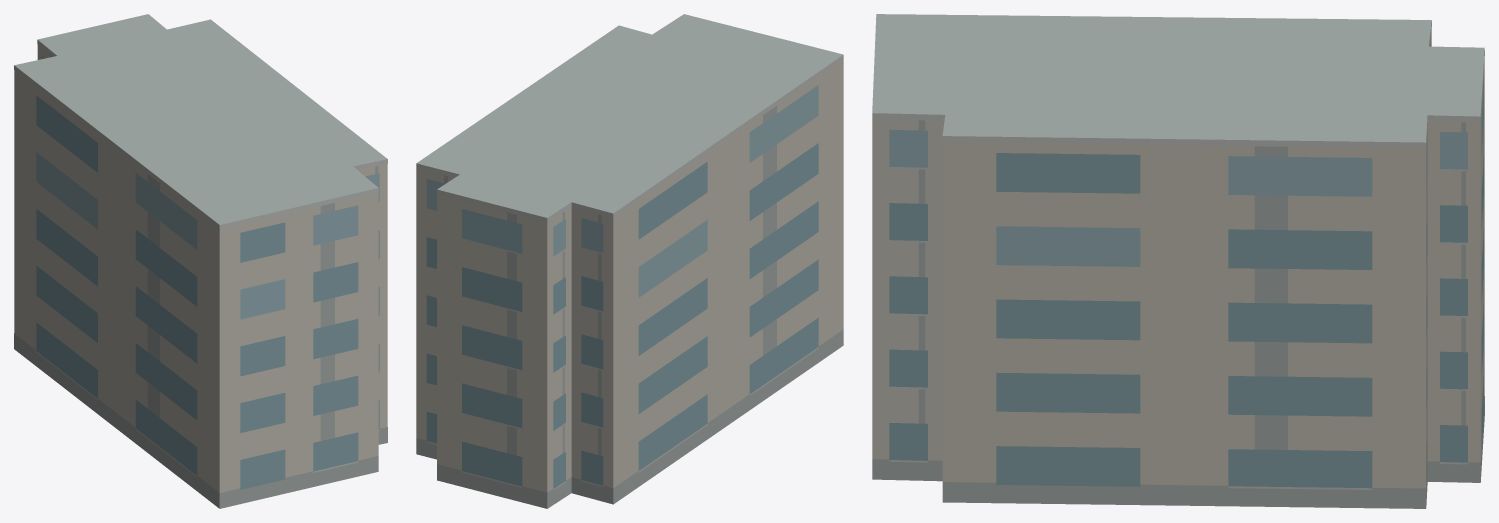
Rendered from survey-upis-32802506.glb.
The picture shows the model from 3 angles, left to right: view 1: azimuth 30°, elevation 25°; view 2: azimuth 150°, elevation 25°; view 3: azimuth 270°, elevation 25°; orthographic projection. The views are drawn at different scales.
Parts seen in each view (by area): view 1: survey-upis-32802506.tmp; view 2: survey-upis-32802506.tmp; view 3: survey-upis-32802506.tmp.
Part boxes in pixels (bbox=[...]): survey-upis-32802506.tmp: bbox=[14, 14, 387, 508]; survey-upis-32802506.tmp: bbox=[416, 14, 843, 508]; survey-upis-32802506.tmp: bbox=[872, 14, 1484, 508].
Size of the model in its own units: 10.97 by 14.57 by 22.09.
